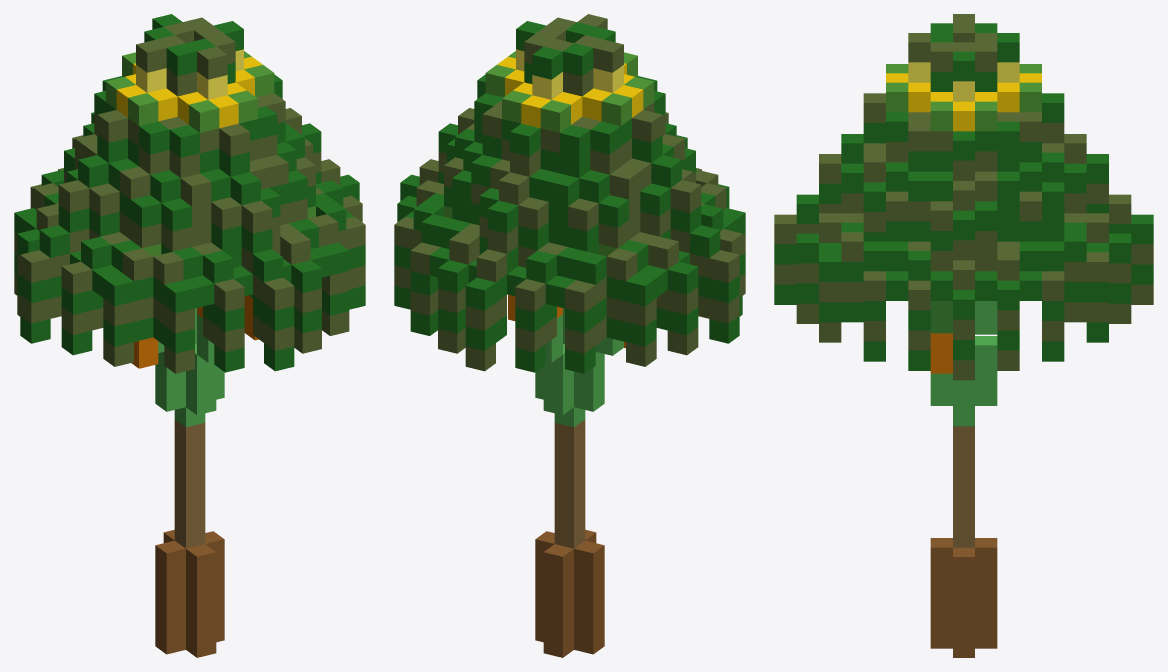
The model's file is Alcaparro_enano_Sara_Viviana_Rojas_Gómez_fase_3.obj.
3 views of the same model, side by side, from view 1: azimuth 30°, elevation 25°; view 2: azimuth 150°, elevation 25°; view 3: azimuth 270°, elevation 25° (orthographic).
Parts seen in each view (by area): view 1: Alcaparro_enano_Sara_Viviana_Rojas_Gómez_fase_3; view 2: Alcaparro_enano_Sara_Viviana_Rojas_Gómez_fase_3; view 3: Alcaparro_enano_Sara_Viviana_Rojas_Gómez_fase_3.
Boxes of the visible parts, x1,y1,x2,y2 form: Alcaparro_enano_Sara_Viviana_Rojas_Gómez_fase_3: (14, 14, 365, 657); Alcaparro_enano_Sara_Viviana_Rojas_Gómez_fase_3: (394, 14, 745, 657); Alcaparro_enano_Sara_Viviana_Rojas_Gómez_fase_3: (774, 14, 1153, 657).
Bounding box in the file's own units: 17 × 30 × 17.
